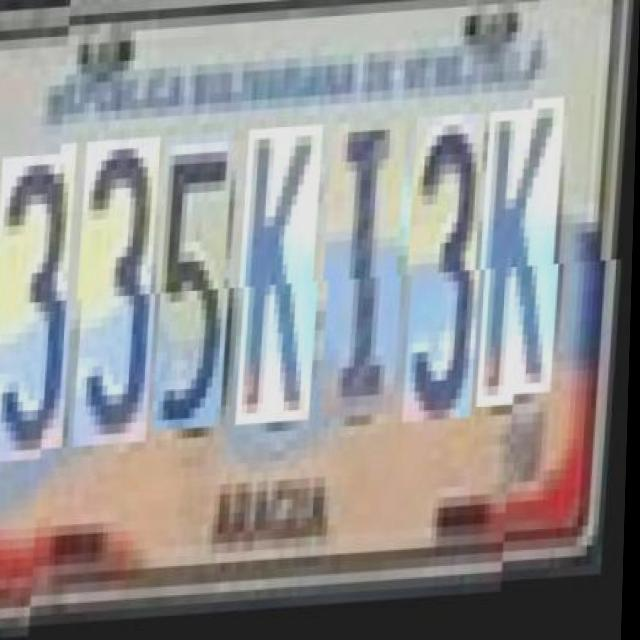3: (80, 139, 168, 450), (0, 144, 84, 454), (409, 120, 493, 430)
5: (158, 135, 242, 434)
i: (326, 125, 415, 425)
k: (482, 116, 571, 416), (242, 130, 330, 430)
